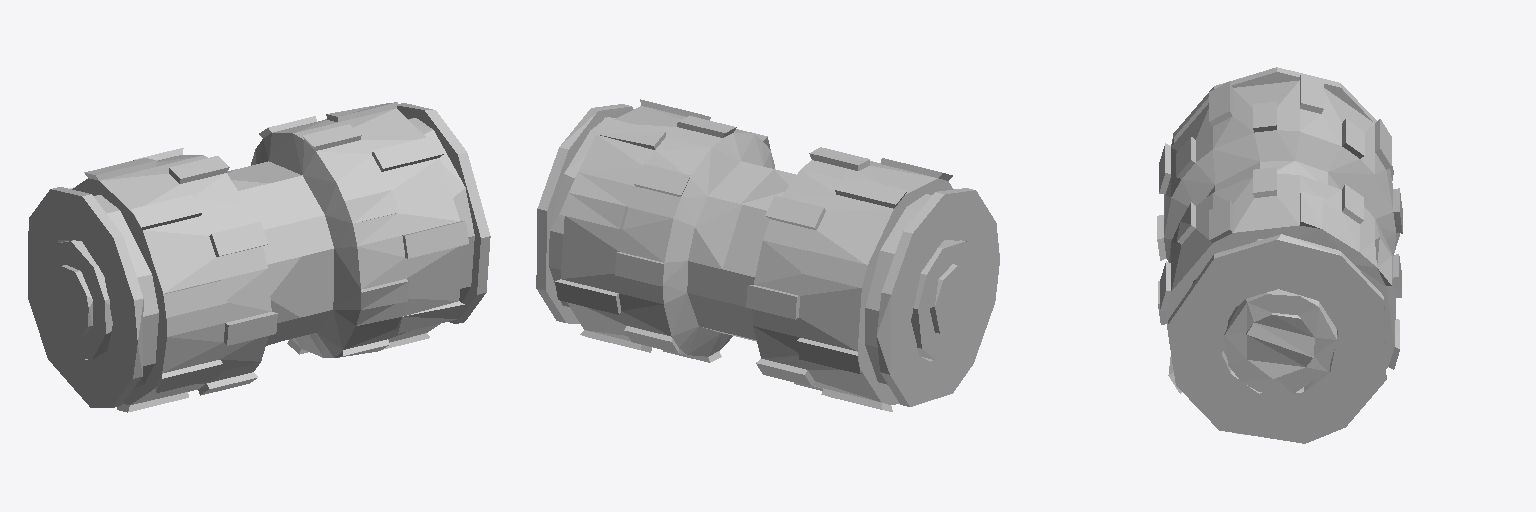
File: Kola_000019.obj
The picture shows the model from 3 angles: view 1: azimuth 30°, elevation 25°; view 2: azimuth 150°, elevation 25°; view 3: azimuth 270°, elevation 25°; orthographic projection.
Visible parts, largest first — view 1: Cylinder.004; view 2: Cylinder.004; view 3: Cylinder.004.
Part boxes in pixels (x1,y1,x2,y2): Cylinder.004: (28,102,490,412); Cylinder.004: (536,99,999,411); Cylinder.004: (1157,67,1402,443).
Bounding box in the file's own units: 2.17 × 1.25 × 1.25.